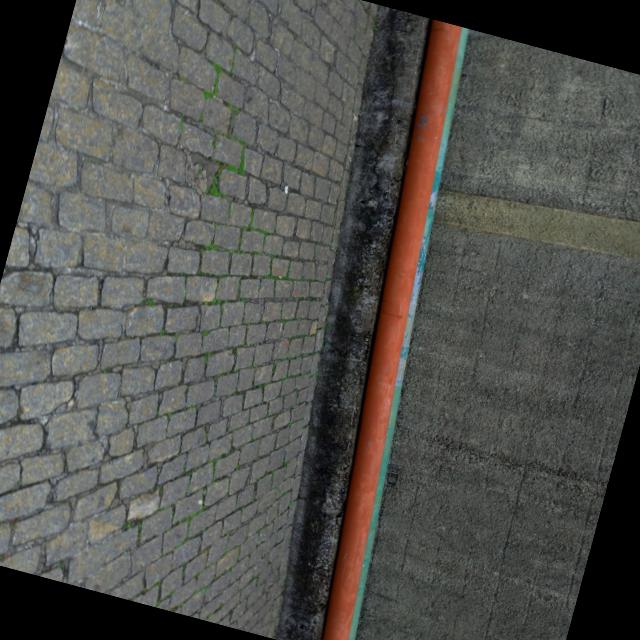gas: (323, 18, 460, 640)
